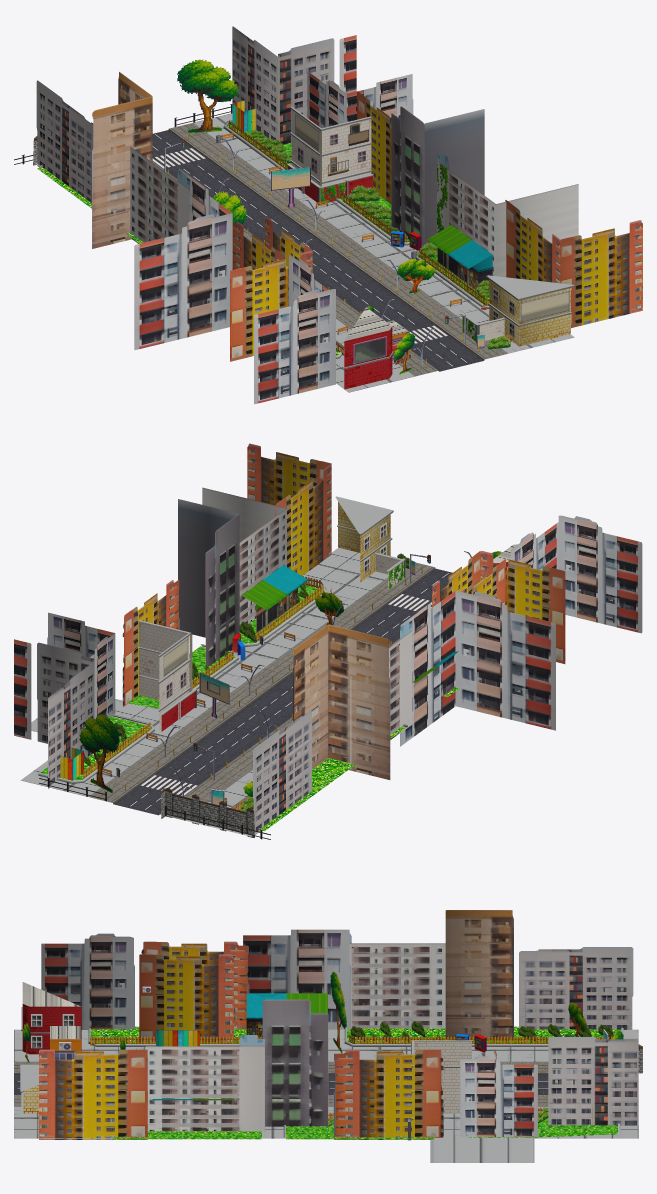
File: road.glb
3 renders of one model, top to bottom at view 1: azimuth 30°, elevation 25°; view 2: azimuth 150°, elevation 25°; view 3: azimuth 270°, elevation 25°, orthographic. The views are drawn at different scales.
Parts seen in each view (by area): view 1: Prefab2_road.004; view 2: Prefab2_road.004; view 3: Prefab2_road.004.
Part boxes in pixels (bbox=[...]): Prefab2_road.004: bbox=[14, 26, 642, 404]; Prefab2_road.004: bbox=[14, 443, 642, 839]; Prefab2_road.004: bbox=[14, 910, 642, 1162].
Bounding box in the file's own units: 84.16 × 30.4 × 113.
Materials: 1 (1 with a texture image).
